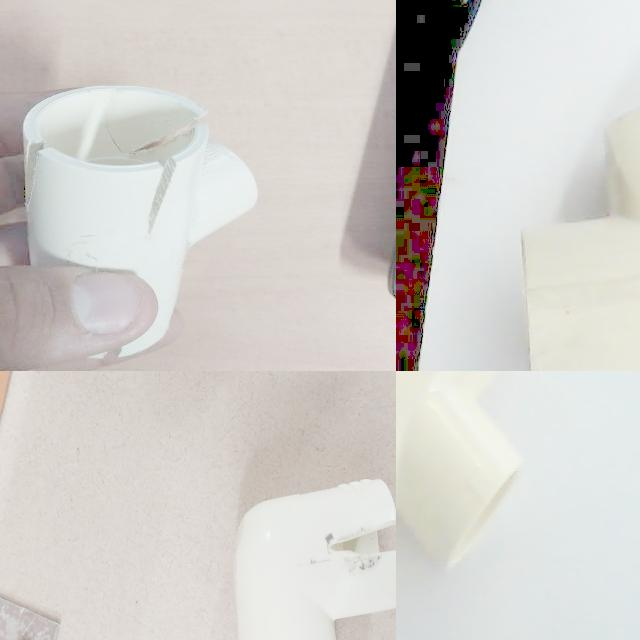Defective: (128, 153, 214, 250), (159, 98, 253, 168), (17, 140, 86, 200), (134, 371, 180, 459)
L Joint: (110, 371, 299, 580)
T Joint: (519, 109, 640, 371), (396, 371, 524, 573)
